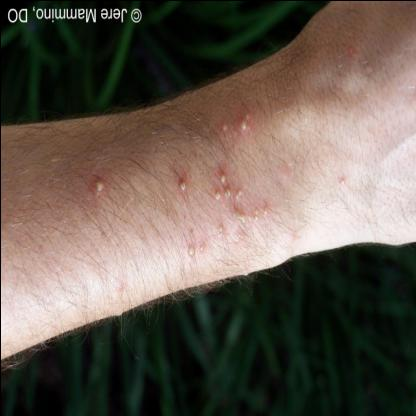Fire ant: (210, 170, 268, 243), (186, 240, 206, 259), (236, 112, 254, 132), (174, 175, 190, 193), (93, 173, 105, 196), (333, 172, 348, 188), (113, 279, 127, 295), (345, 42, 357, 60), (218, 119, 230, 136)
